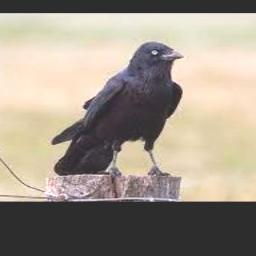Crow: (52, 41, 185, 175)
